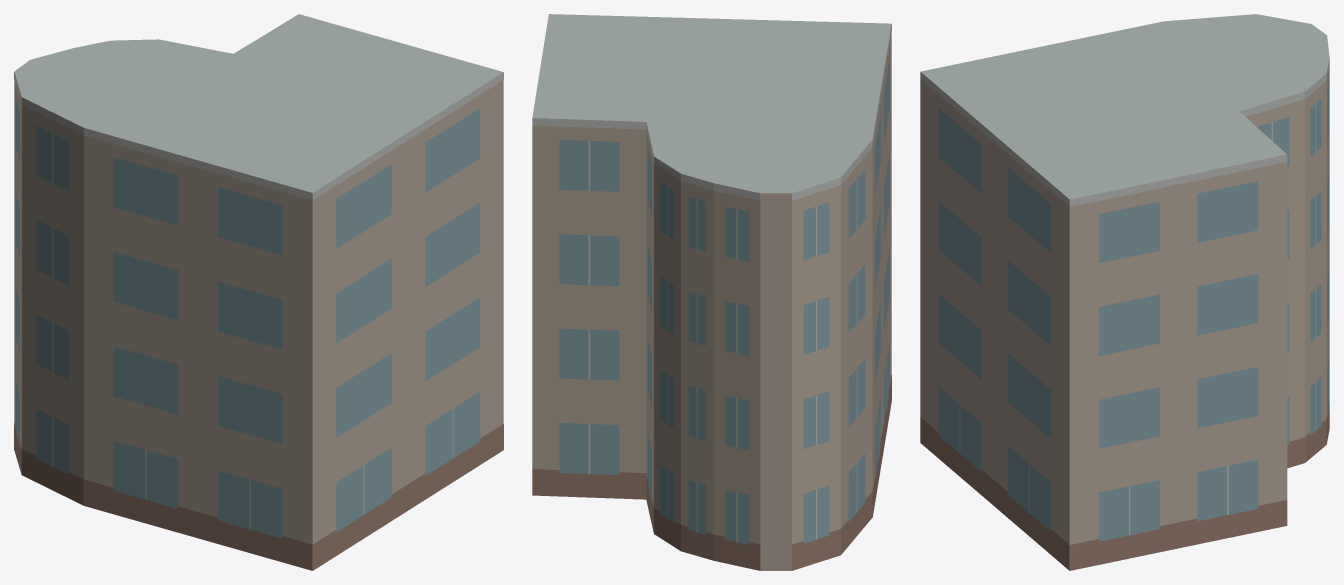
Rendered from survey-upis-32954318.glb.
3 renders of one model, left to right at view 1: azimuth 30°, elevation 25°; view 2: azimuth 150°, elevation 25°; view 3: azimuth 270°, elevation 25°, orthographic.
Parts seen in each view (by area): view 1: survey-upis-32954318.tmp; view 2: survey-upis-32954318.tmp; view 3: survey-upis-32954318.tmp.
Boxes of the visible parts, bbox=[...] form: survey-upis-32954318.tmp: bbox=[14, 14, 503, 570]; survey-upis-32954318.tmp: bbox=[532, 14, 891, 570]; survey-upis-32954318.tmp: bbox=[920, 14, 1329, 570].
Bounding box in the file's own units: 13.09 × 12.2 × 12.2.
